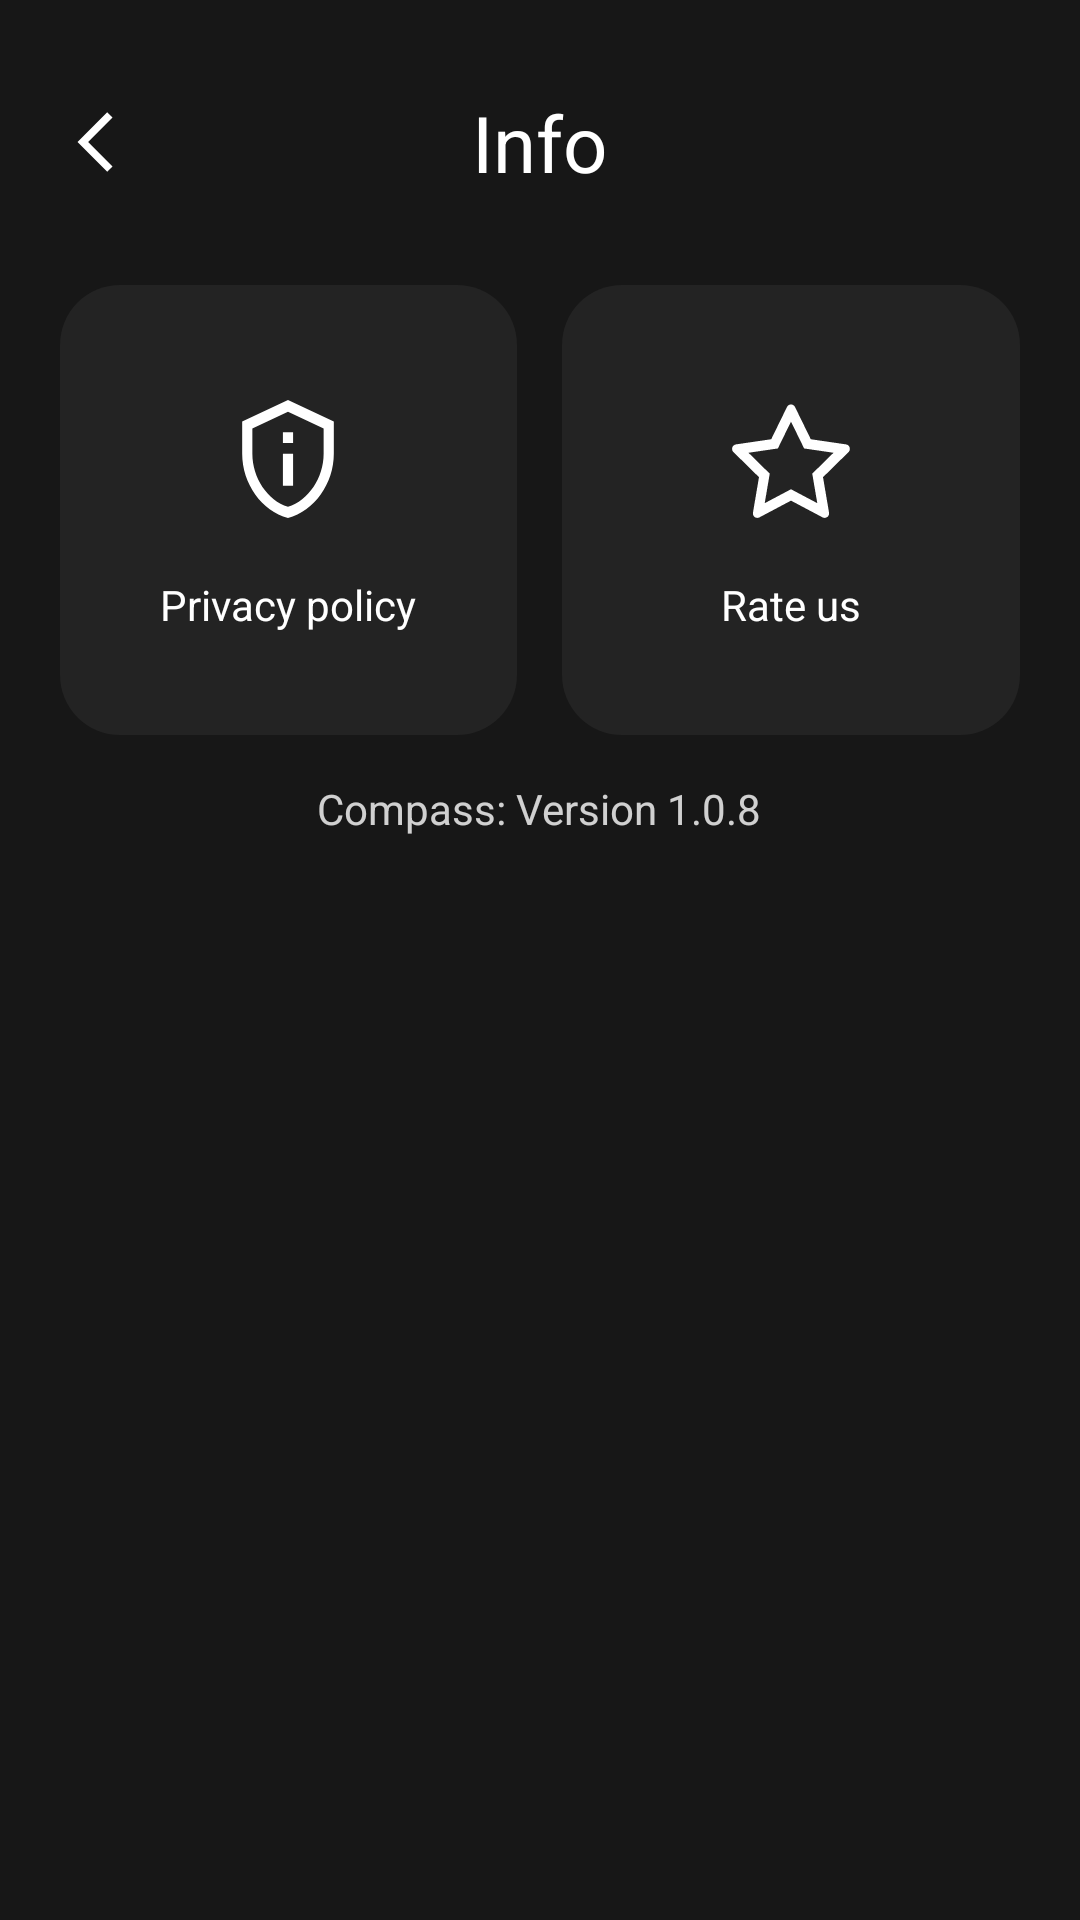

Icons on this 1080w x 1920h Android screen, each with the point to tap as (x=x, y=y):
back: (x=95, y=142)
